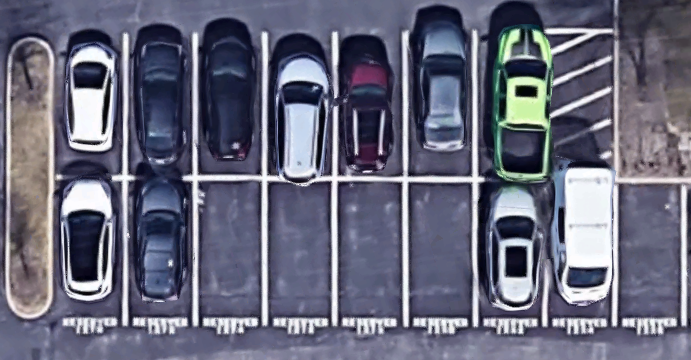Occupied: (52, 178, 125, 325), (123, 178, 195, 326), (475, 178, 545, 328), (51, 34, 123, 179), (334, 32, 405, 179), (474, 32, 545, 179), (123, 34, 195, 178), (263, 34, 335, 178), (405, 32, 476, 178), (545, 181, 616, 326), (195, 33, 265, 178)
Vacant: (335, 178, 406, 327), (194, 178, 265, 326), (263, 178, 334, 326), (406, 178, 476, 328), (615, 180, 685, 325)
